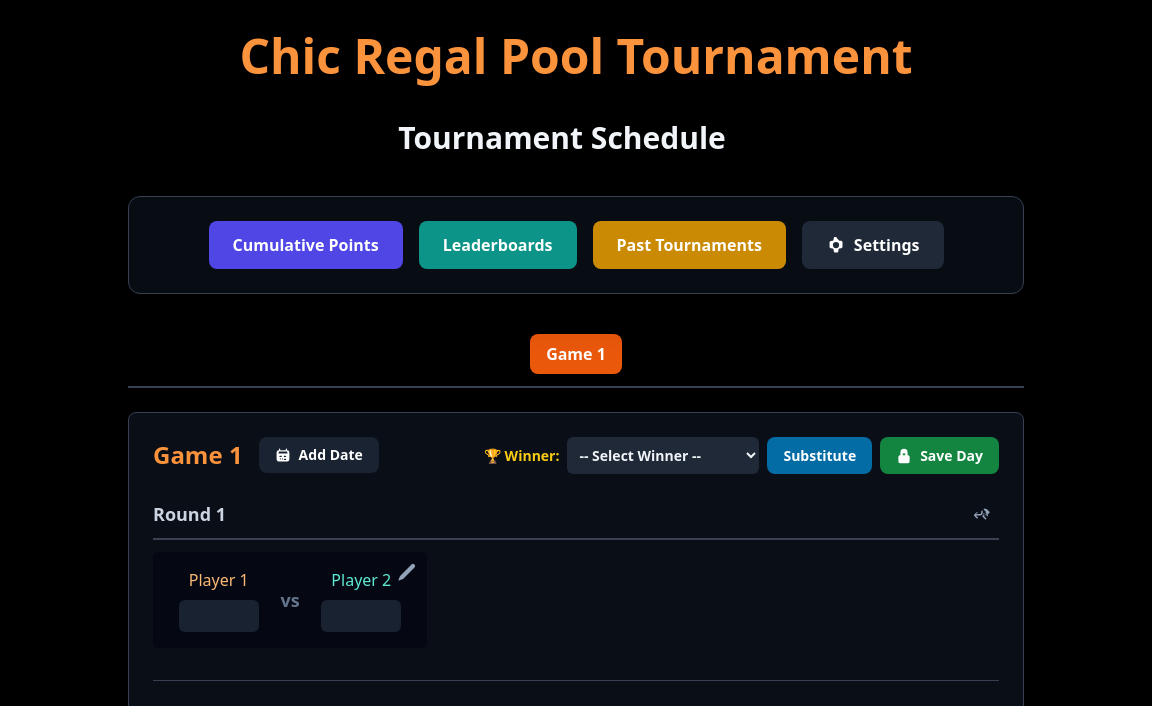
App Component - End and Save Tournament › should save the current tournament and start a new one when confirmed
Check: the number field named "Score for Player 1" is shown, box x1=179 y1=600 x2=259 y2=632
# Change some data
Click the heading "Tournament Schedule".
click(562, 138)  # box x1=390 y1=112 x2=734 y2=164
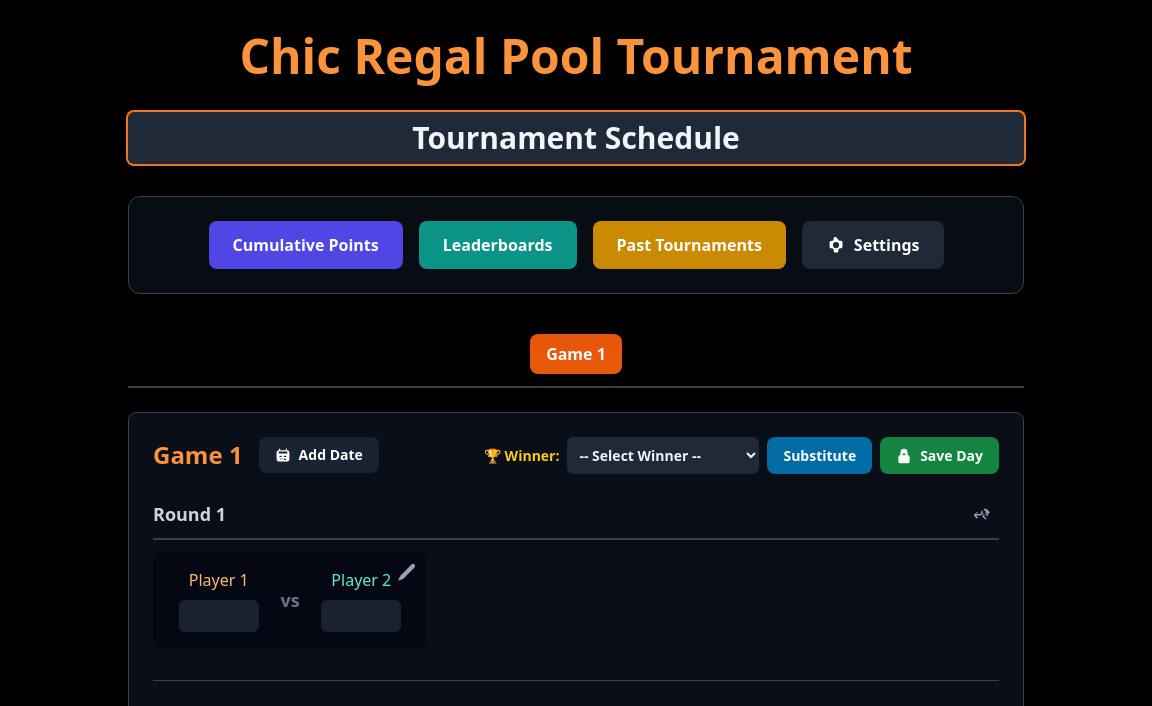
Replace the text in the field with "Spring Championship" at (576, 138), box x1=128 y1=112 x2=1024 y2=164
Press Enter
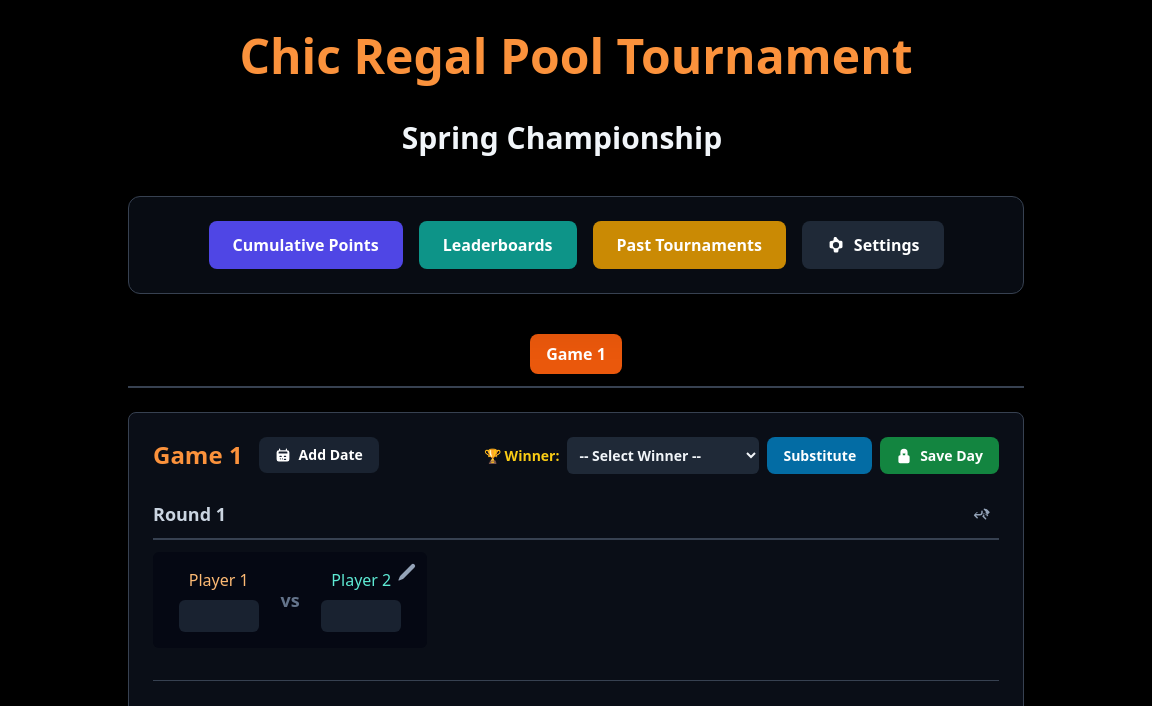
Check: the heading "Spring Championship" is shown, box x1=394 y1=112 x2=730 y2=164
Type "15" into the number field named "Score for Player 1".
click(219, 616); type("15")  # box x1=179 y1=600 x2=259 y2=632
# Trigger End and Save
Click the button "Settings".
click(873, 245)  # box x1=802 y1=221 x2=944 y2=269
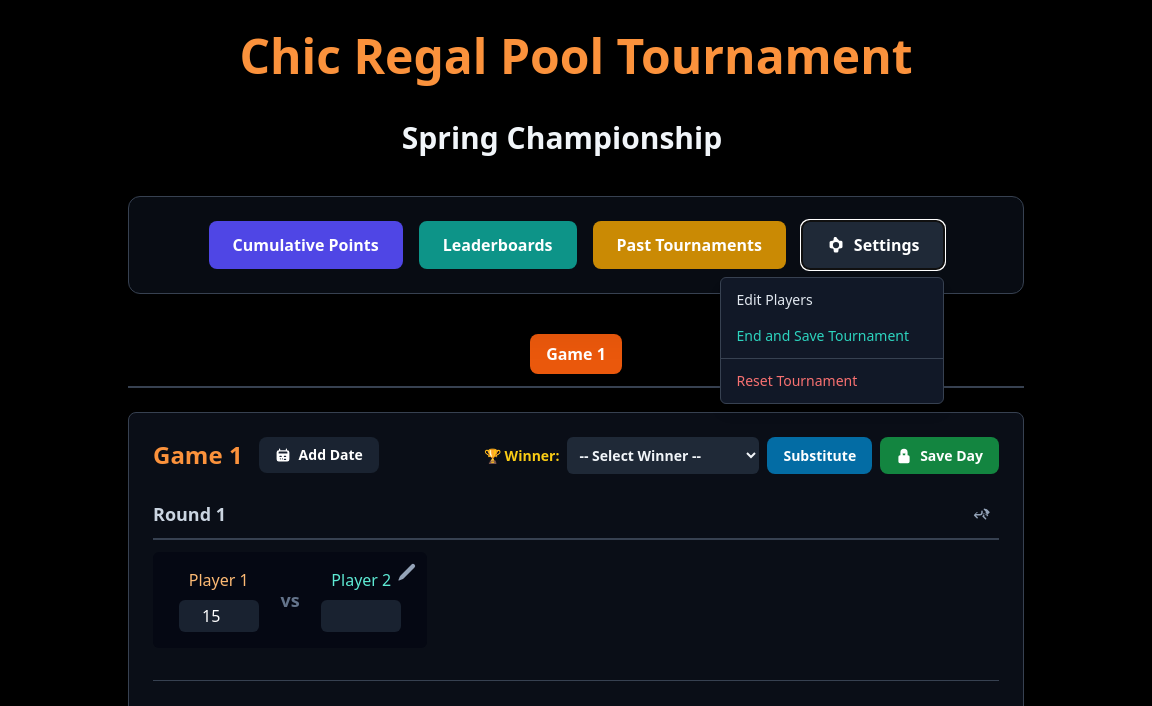
Click the menu item "End and Save Tournament".
click(832, 336)  # box x1=720 y1=318 x2=942 y2=354
(page scrolled)
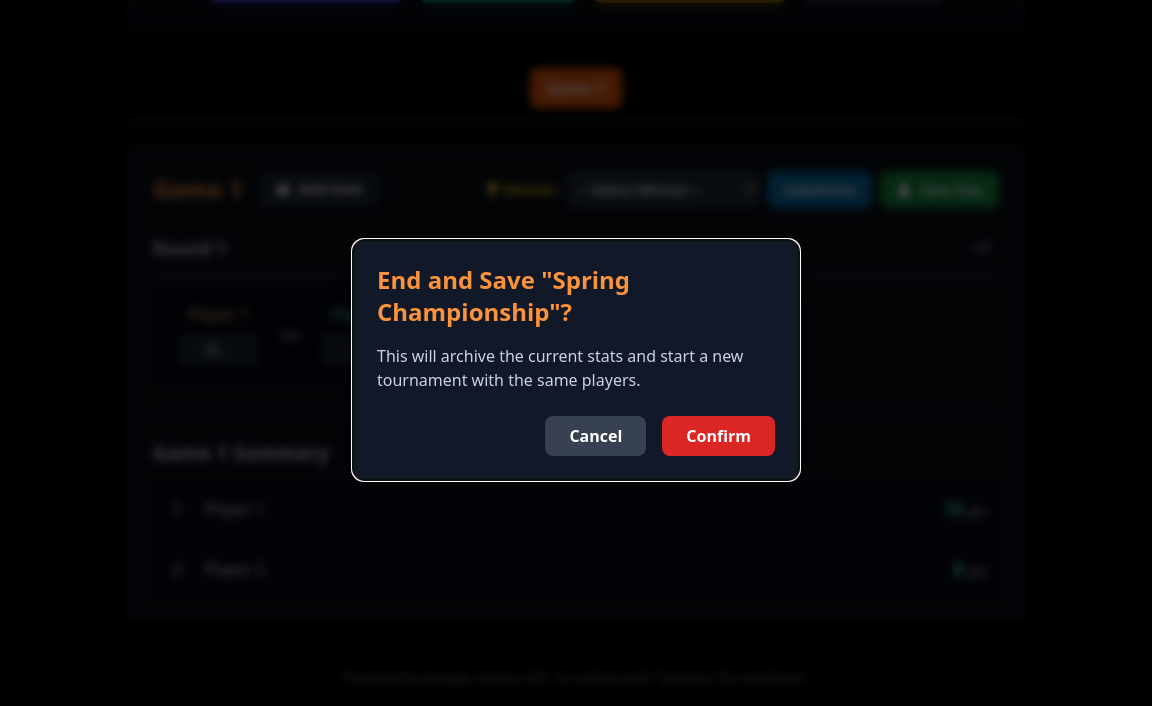
Check: the heading "End and Save \"Spring Championship\"?" is shown, box x1=377 y1=263 x2=630 y2=328
Click the button "Confirm".
click(719, 436)  # box x1=662 y1=416 x2=775 y2=456
(page scrolled)
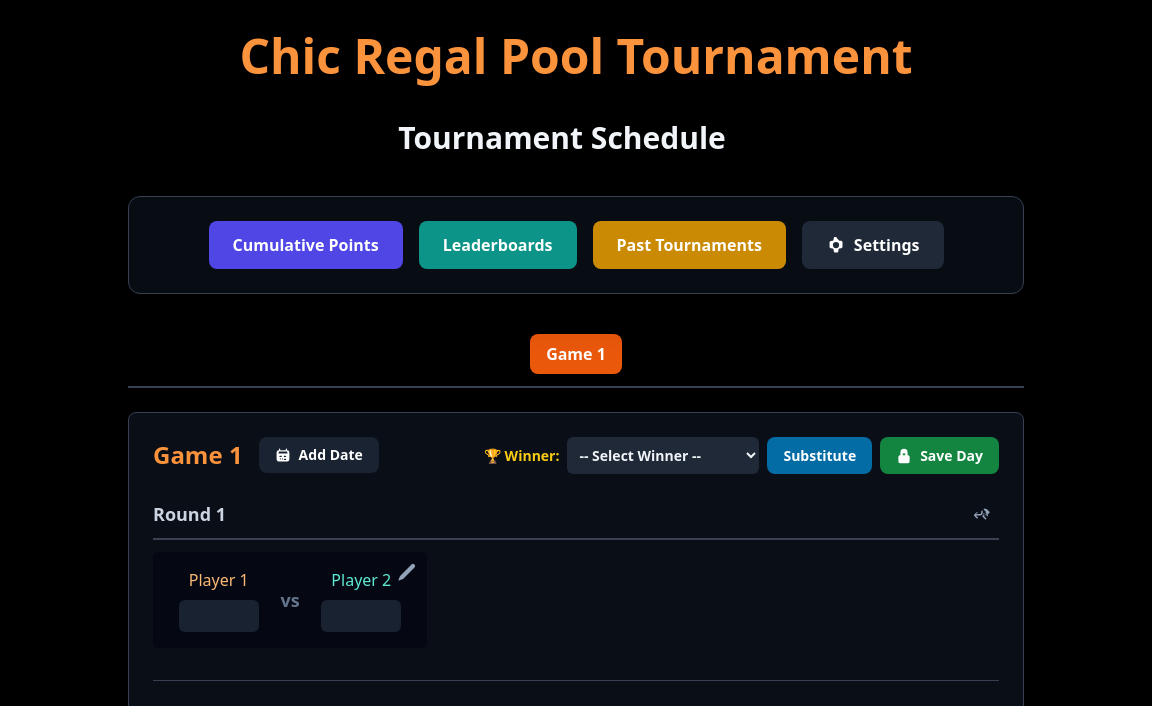
Check: the heading "Tournament Schedule" is shown, box x1=390 y1=112 x2=734 y2=164
Check: the number field named "Score for Player 1" is not empty, box x1=179 y1=600 x2=259 y2=632
# Verify it appears in the Past Tournaments view
Click the button "Past Tournaments".
click(689, 245)  # box x1=592 y1=221 x2=786 y2=269
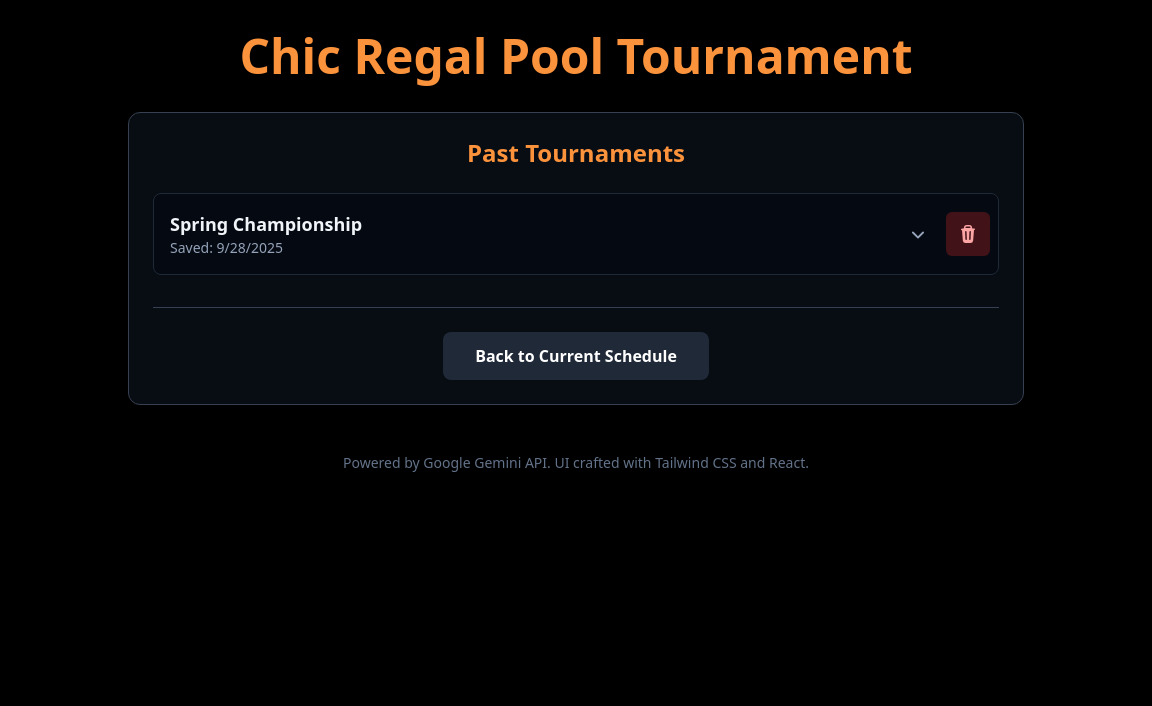
Check: the heading "Spring Championship" is shown, box x1=170 y1=210 x2=362 y2=238
